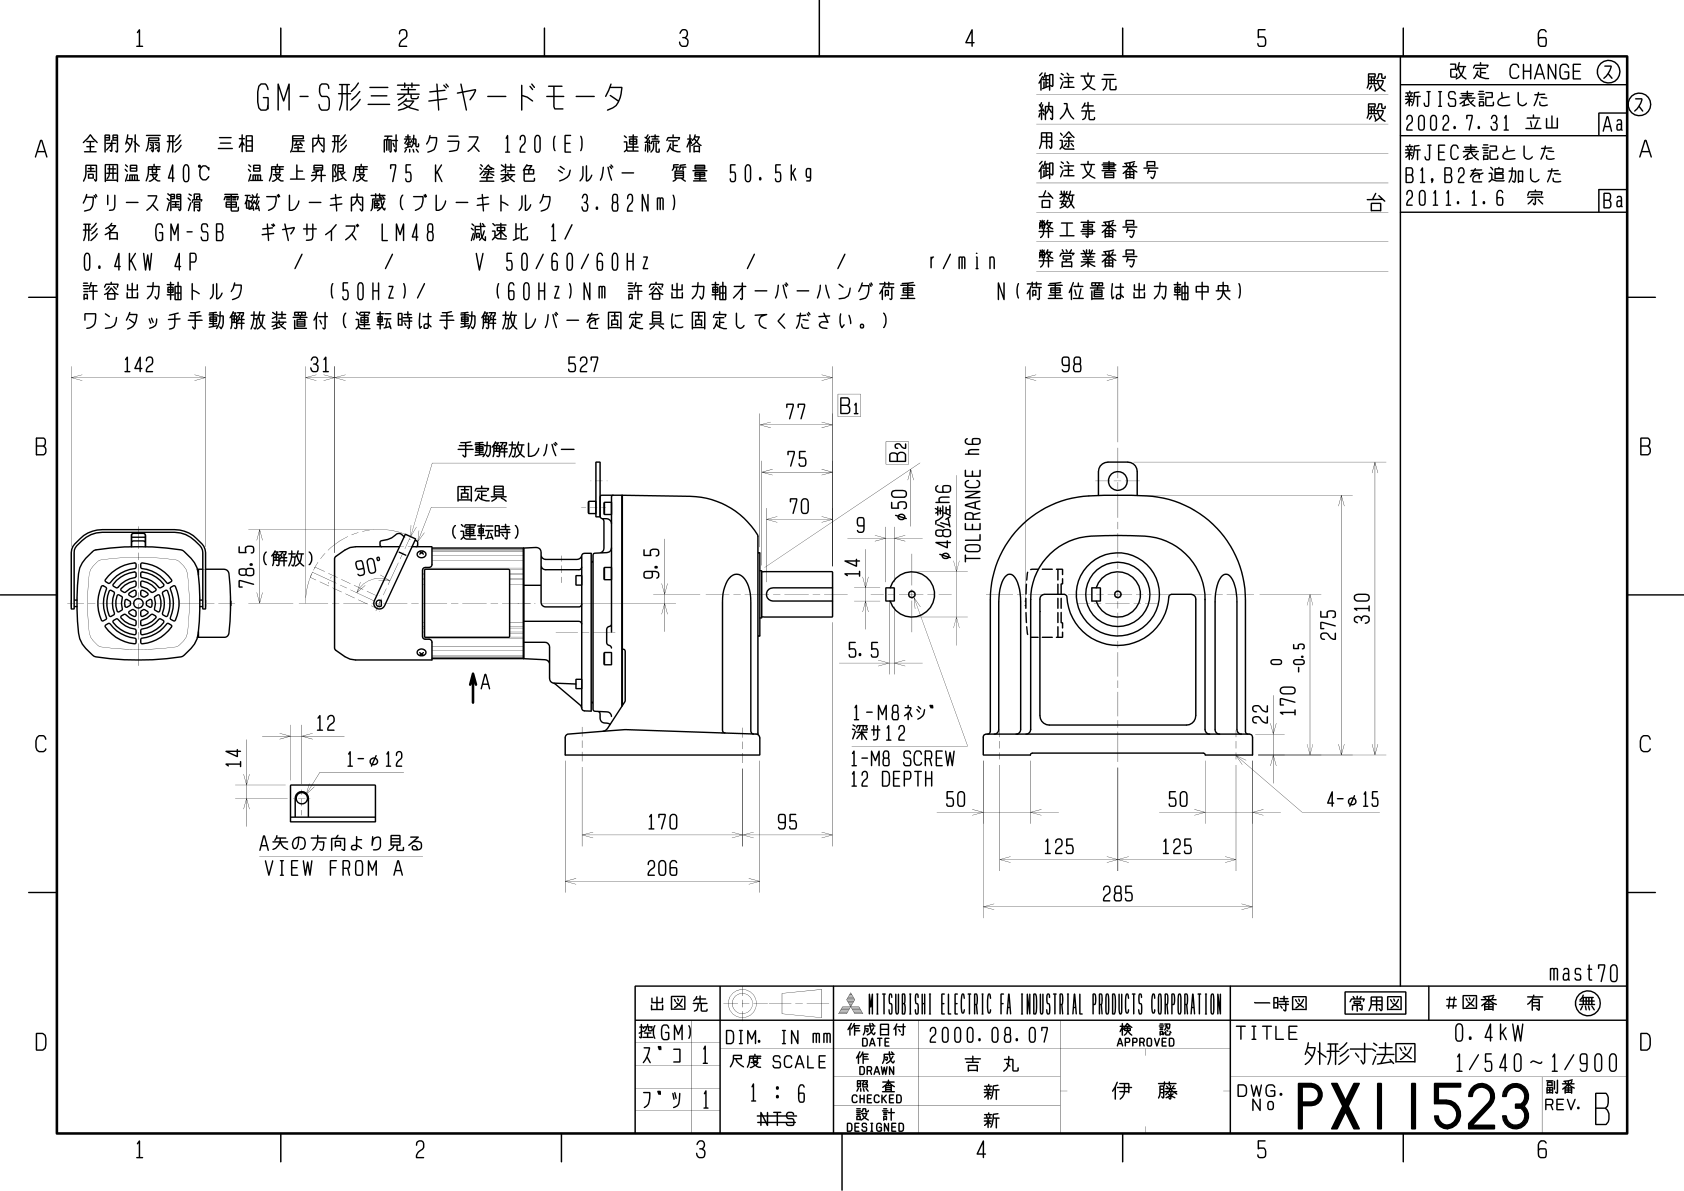GM_S_手動ブレーキ＿三相_脚: (13, 6, 1684, 1191)
